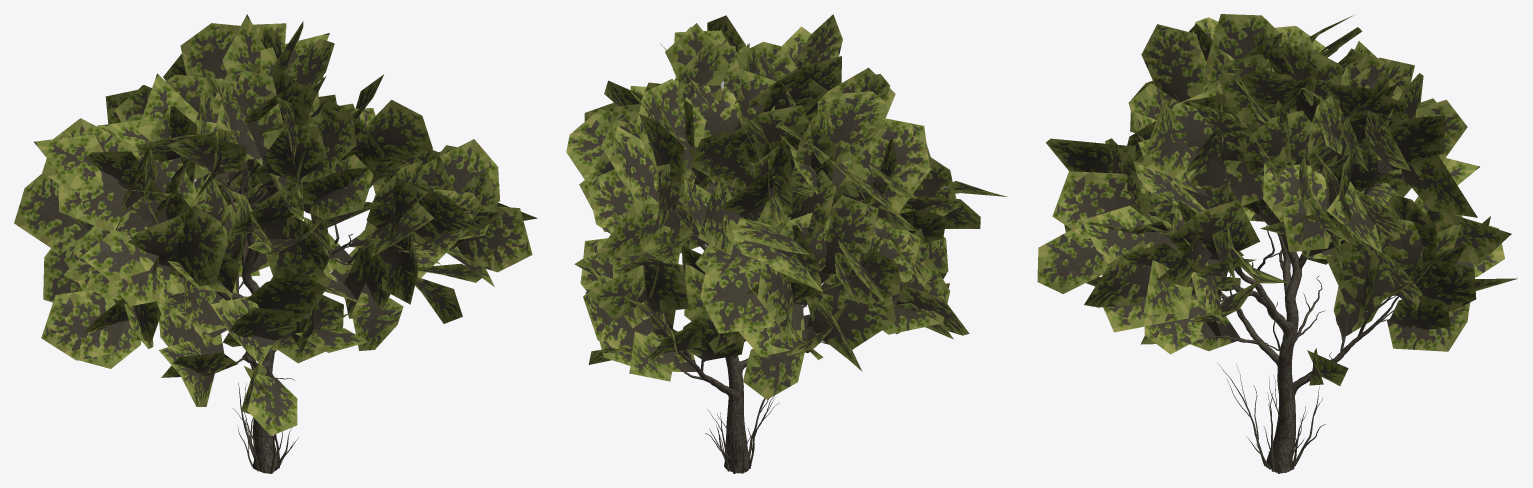
The model's file is SM_Maple_Spring_01a.fbx.
3 renders of one model, left to right at view 1: azimuth 30°, elevation 25°; view 2: azimuth 150°, elevation 25°; view 3: azimuth 270°, elevation 25°, orthographic. The views are drawn at different scales.
Visible parts, largest first — view 1: SM_Maple_Spring_01a_LOD0; view 2: SM_Maple_Spring_01a_LOD0; view 3: SM_Maple_Spring_01a_LOD0.
Boxes of the visible parts, x1,y1,x2,y2 form: SM_Maple_Spring_01a_LOD0: (14, 14, 537, 473); SM_Maple_Spring_01a_LOD0: (566, 14, 1007, 473); SM_Maple_Spring_01a_LOD0: (1037, 14, 1517, 473).
Size of the model in its own units: 1014 by 955 by 977.
